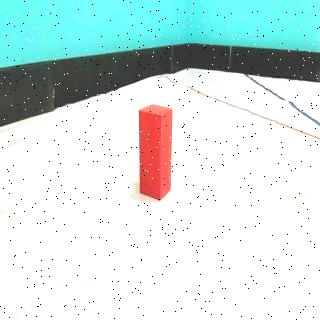redbox: (137, 102, 173, 200)
